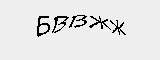Б: (36, 12, 51, 38)
В: (49, 11, 69, 33), (68, 12, 87, 30)
Ж: (108, 16, 127, 36), (89, 15, 110, 32)
